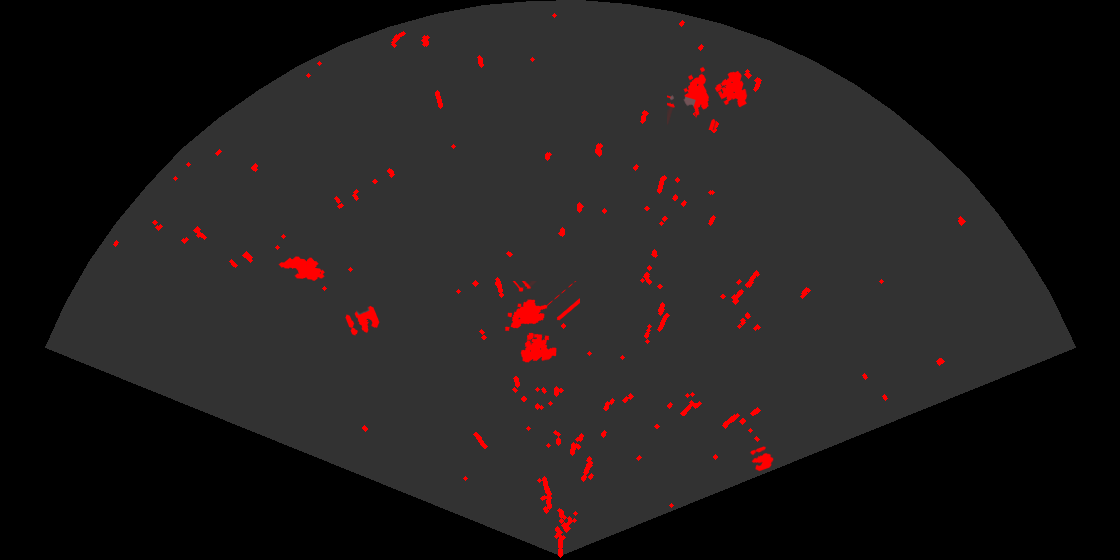AUV: (277, 255, 326, 282)
ball: (344, 304, 381, 337), (748, 445, 775, 473)
cage: (503, 281, 580, 364), (667, 65, 749, 130)
